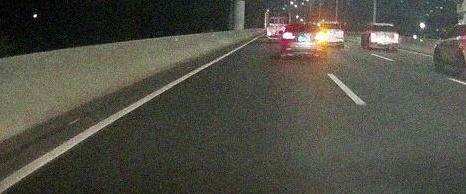L_light: (282, 32, 295, 39), (370, 32, 376, 36)
R_light: (315, 33, 326, 40), (393, 34, 399, 37)
T_light: (381, 24, 387, 27), (300, 25, 307, 27)
night-no: (369, 22, 399, 49)
night-right: (281, 23, 327, 59)
